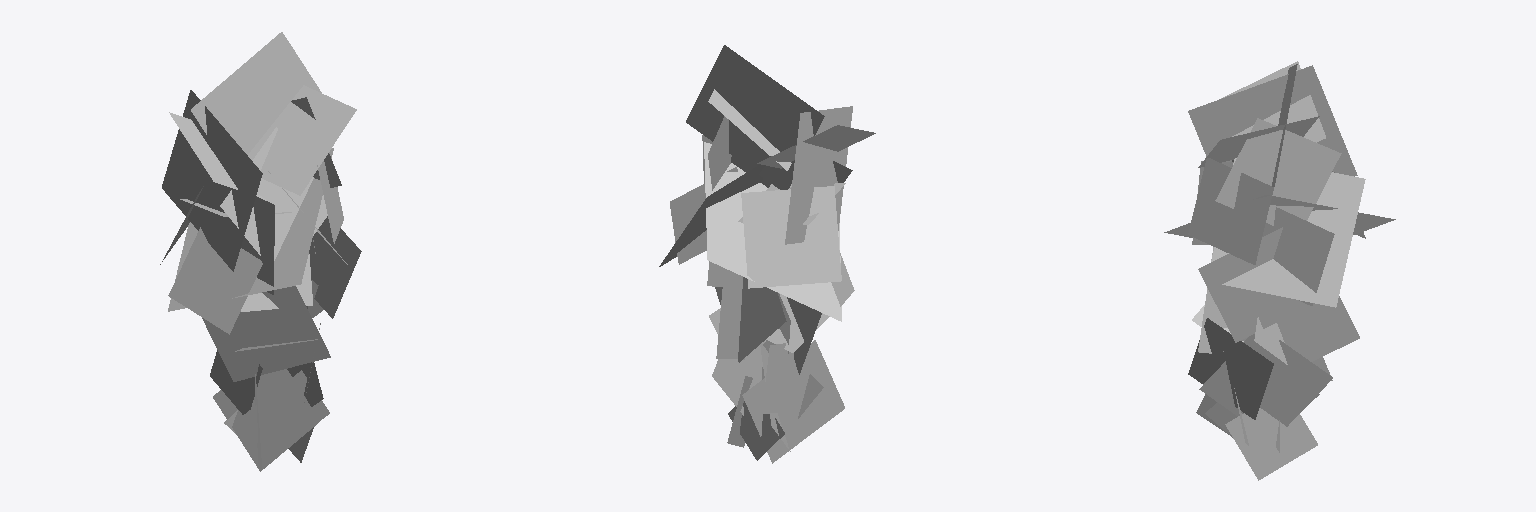
The model's file is ivy_1.obj.
The picture shows the model from 3 angles: view 1: azimuth 30°, elevation 25°; view 2: azimuth 150°, elevation 25°; view 3: azimuth 270°, elevation 25°; orthographic projection.
Visible parts, largest first — view 1: Tree.001_Circle.002; view 2: Tree.001_Circle.002; view 3: Tree.001_Circle.002.
Part boxes in pixels (x1,y1,x2,y2): Tree.001_Circle.002: (160, 32, 361, 471); Tree.001_Circle.002: (659, 45, 875, 463); Tree.001_Circle.002: (1164, 61, 1395, 480).
Bounding box in the file's own units: 9.73 × 22.95 × 11.52.